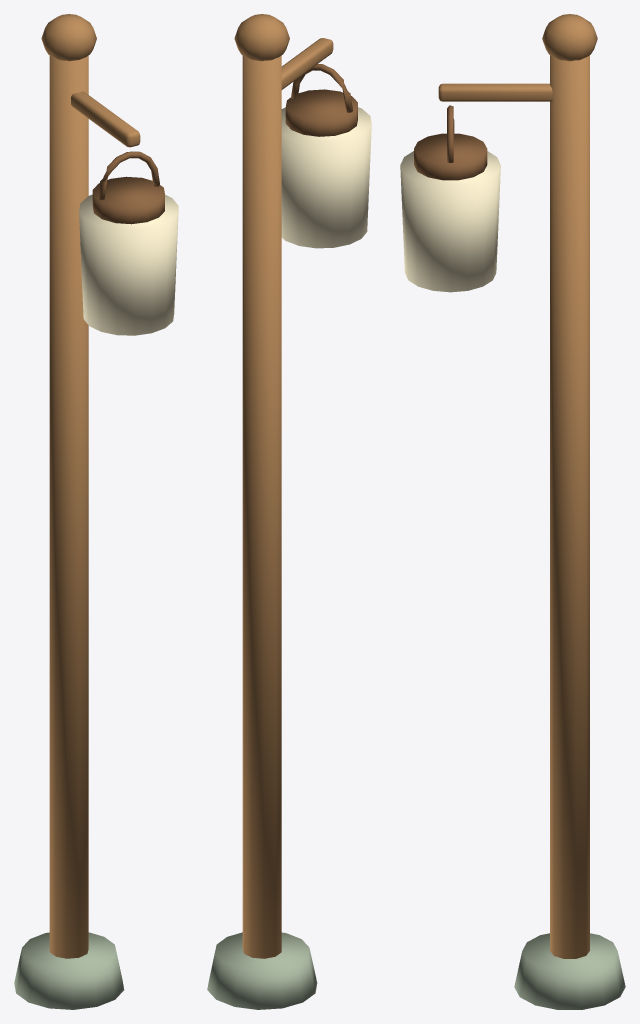
Rendered from festival-lantern.glb.
3 views of the same model, side by side, from view 1: azimuth 30°, elevation 25°; view 2: azimuth 150°, elevation 25°; view 3: azimuth 270°, elevation 25° (orthographic).
Parts seen in each view (by area): view 1: post; view 2: post; view 3: post.
Boxes of the visible parts, x1=… form: post: x1=14, y1=14, x2=178, y2=1009; post: x1=207, y1=14, x2=371, y2=1009; post: x1=400, y1=14, x2=625, y2=1009.
Size of the model in its own units: 0.273 by 2.69 by 0.5665.
